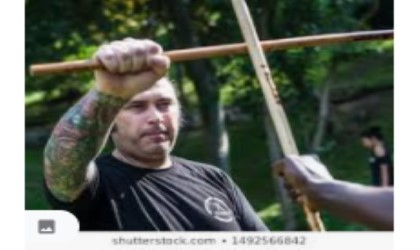baston_e: (223, 3, 320, 151), (172, 23, 390, 67)
baston_v: (302, 217, 342, 240), (25, 58, 56, 82)
